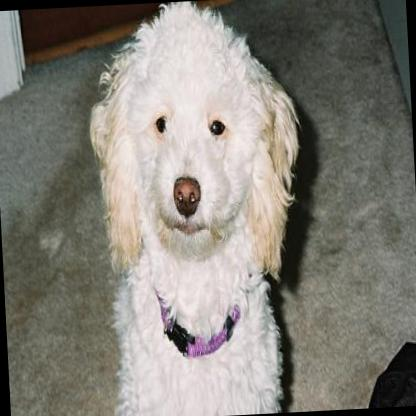toy_poodle: (81, 0, 312, 416)
